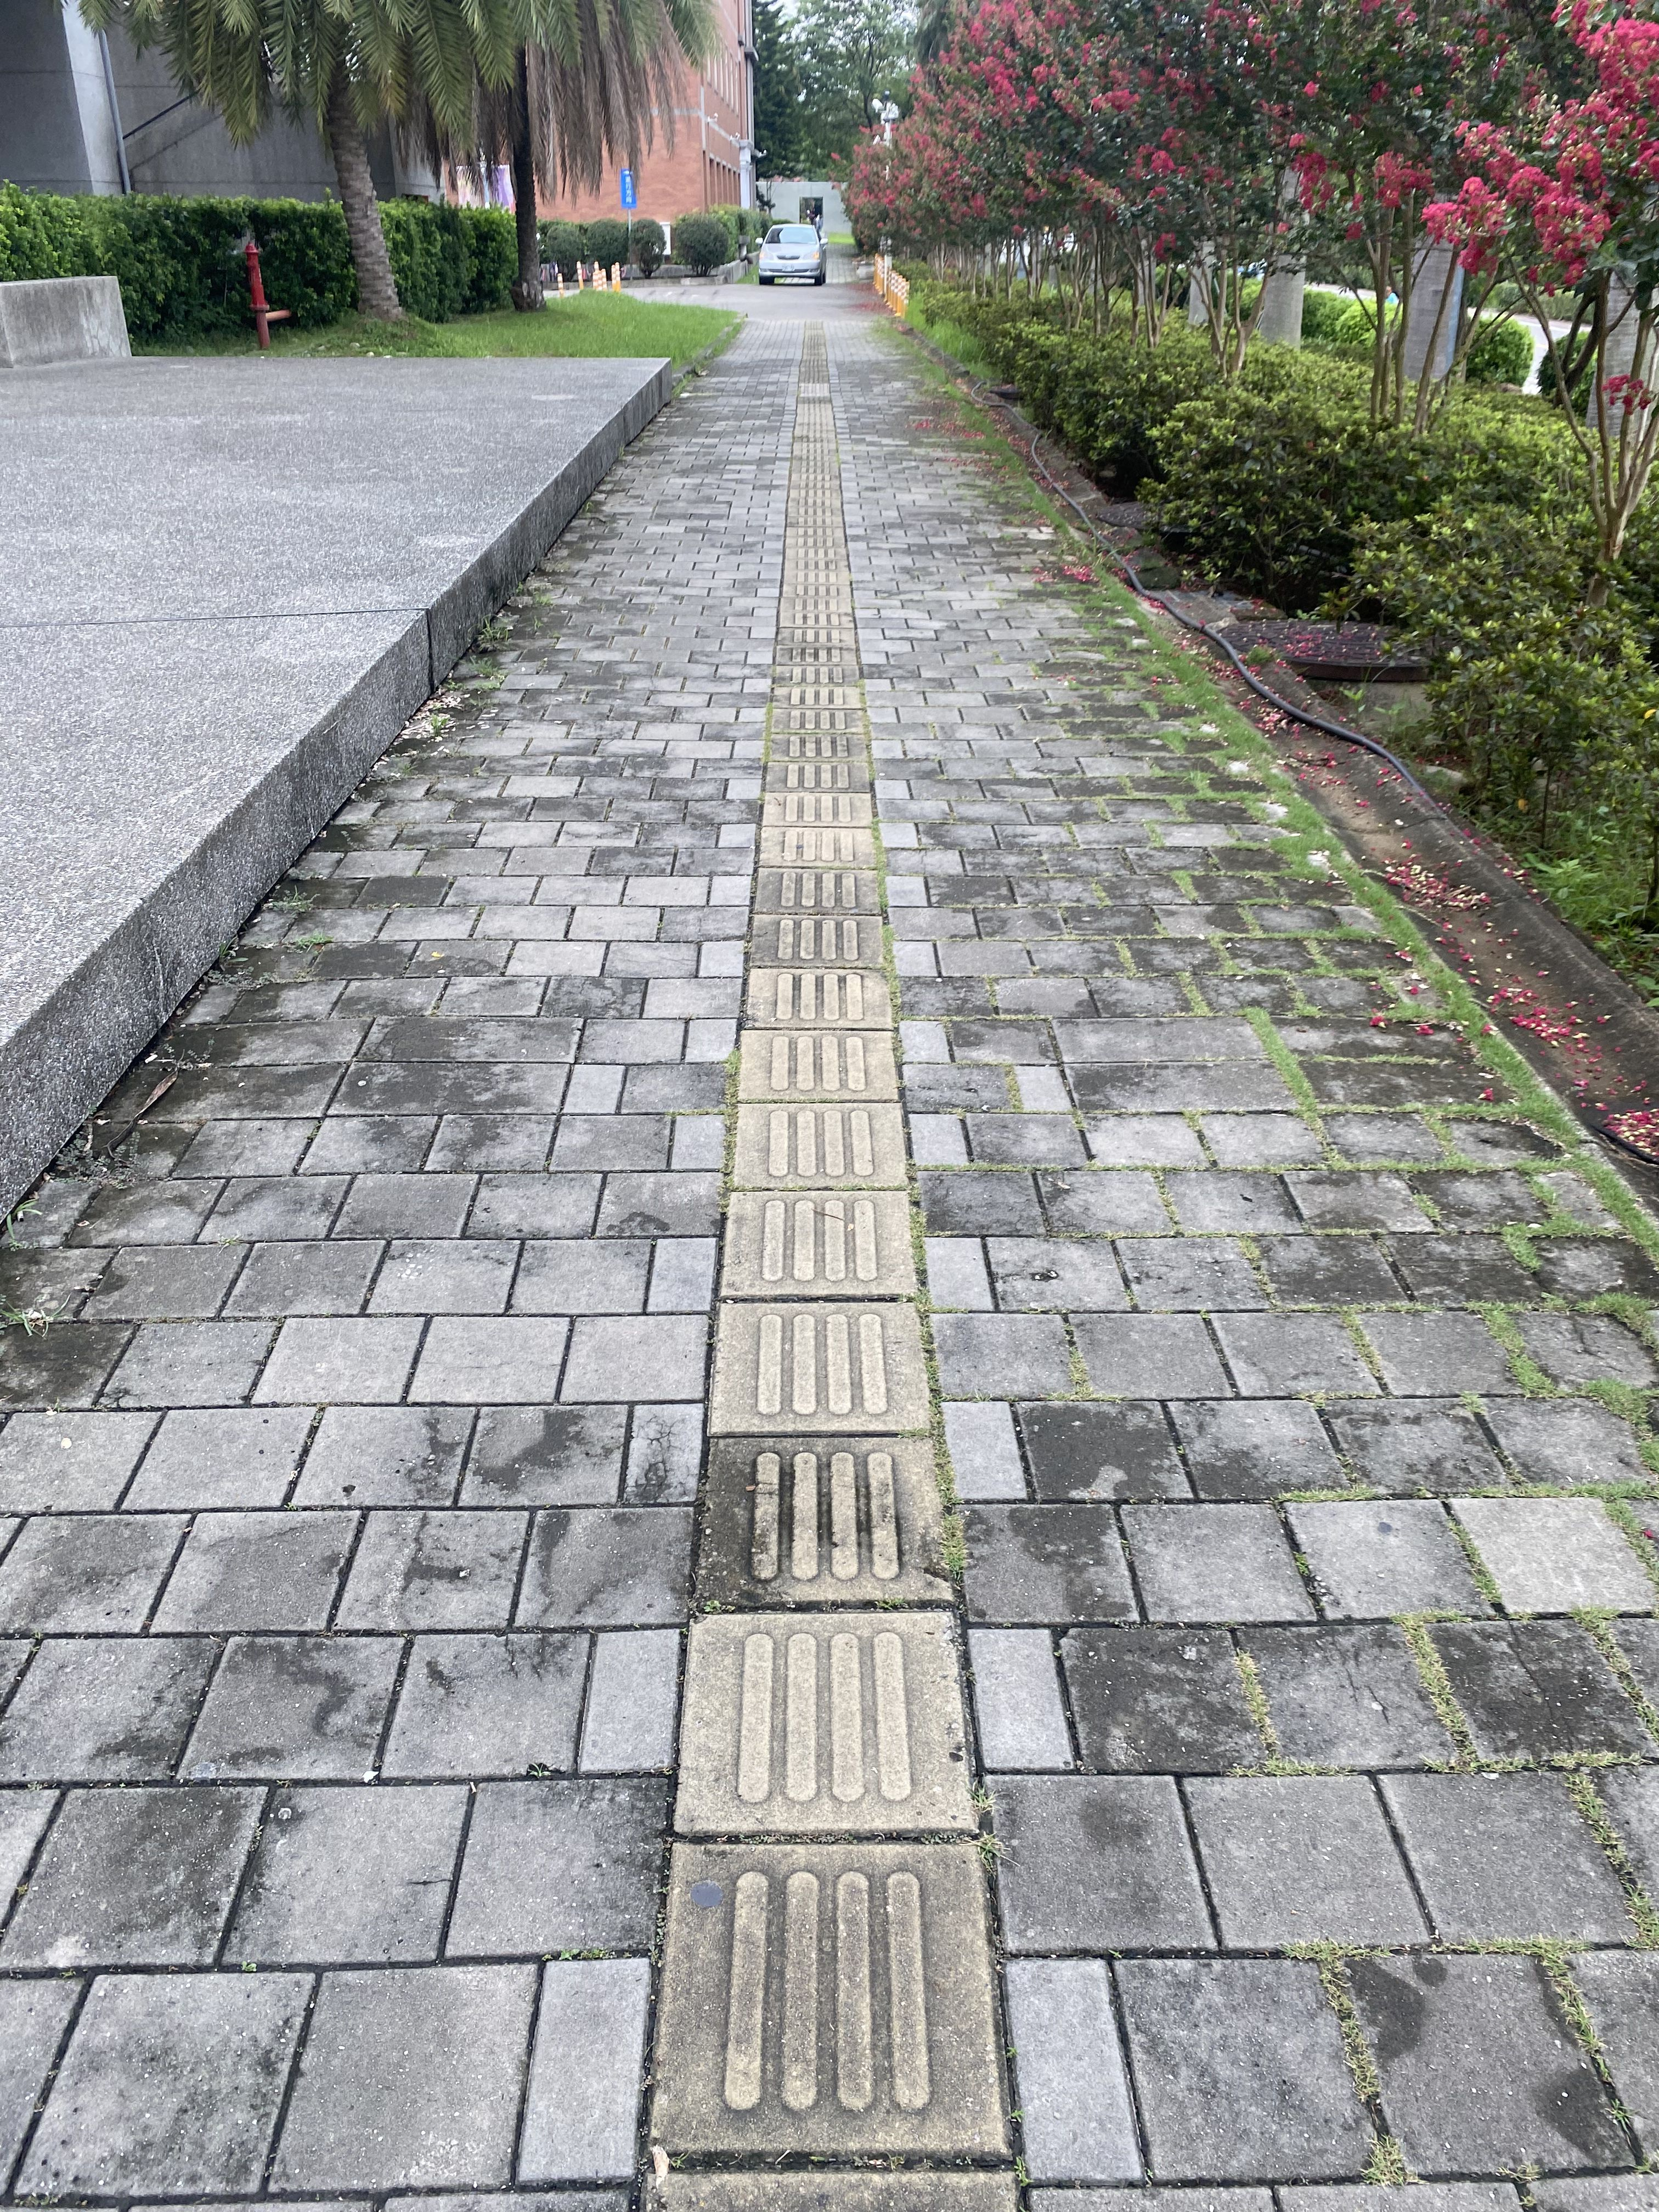0: (14, 528, 1659, 2212)
sidewalk: (530, 293, 1297, 1541)
